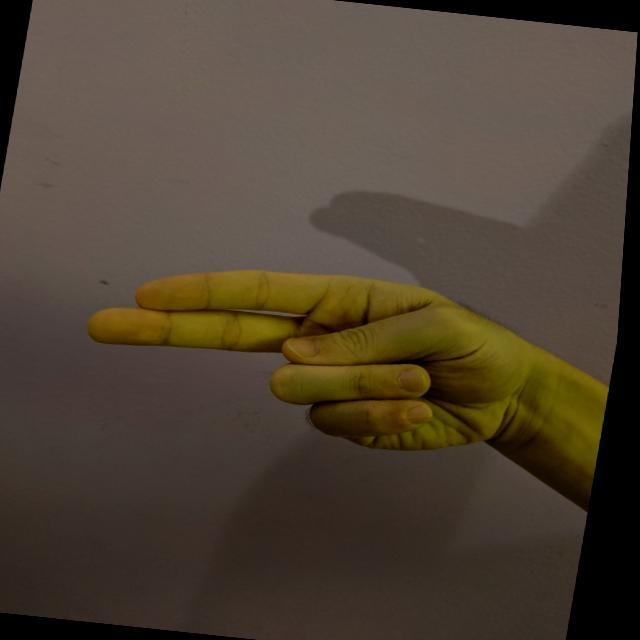H: (63, 235, 534, 472)
